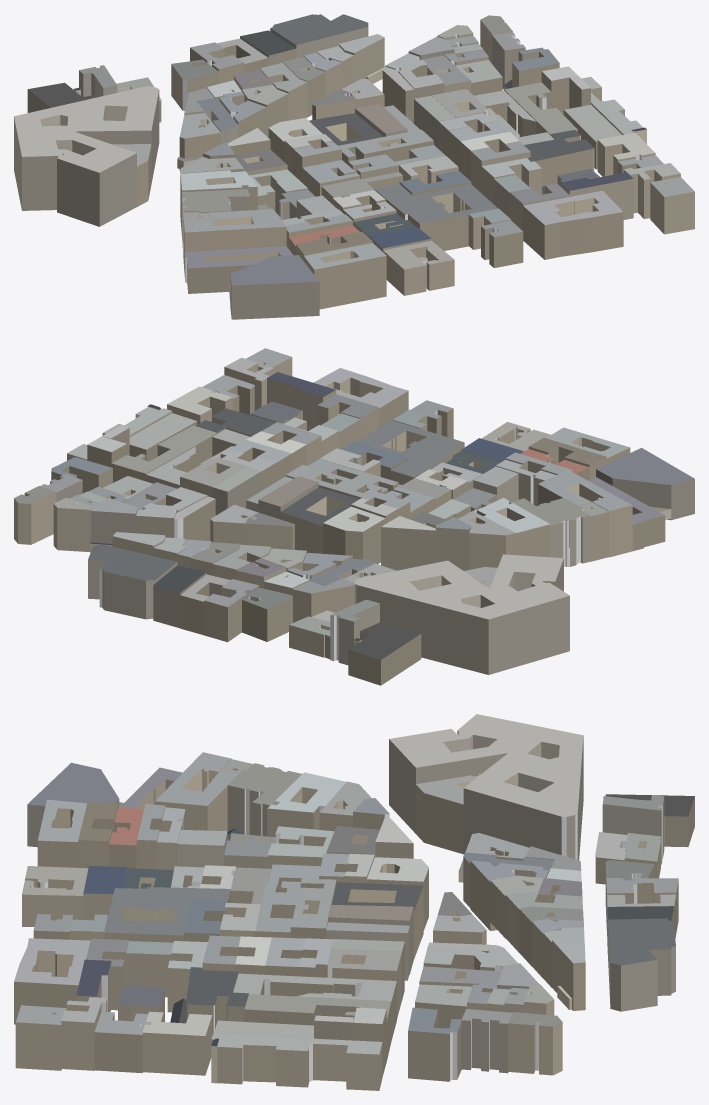
3 renders of one model, top to bottom at view 1: azimuth 30°, elevation 25°; view 2: azimuth 150°, elevation 25°; view 3: azimuth 270°, elevation 25°, orthographic. The views are drawn at different scales.
Visible parts, largest first — view 1: tuile; view 2: tuile; view 3: tuile.
Boxes of the visible parts, box(x1,y1,x2,y2) form: tuile: box(14, 14, 694, 319); tuile: box(14, 348, 694, 685); tuile: box(14, 714, 694, 1090).
Bounding box in the file's own units: 296 × 29.44 × 269.
